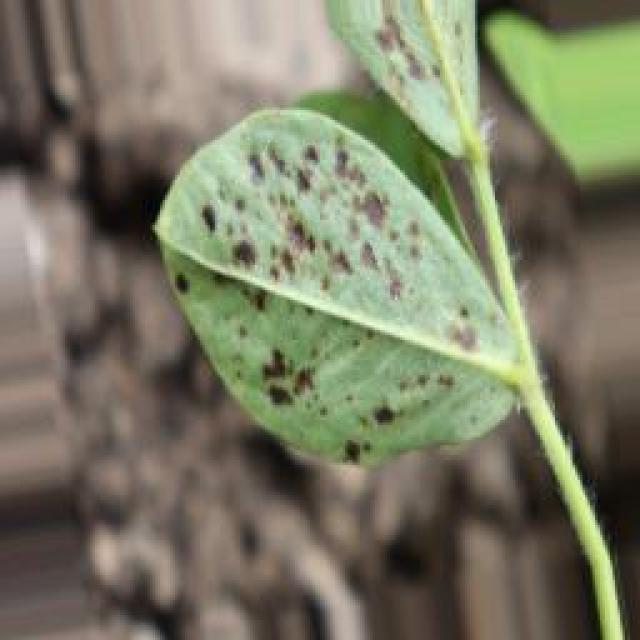Whitefly: (149, 119, 475, 459), (294, 0, 483, 170)
